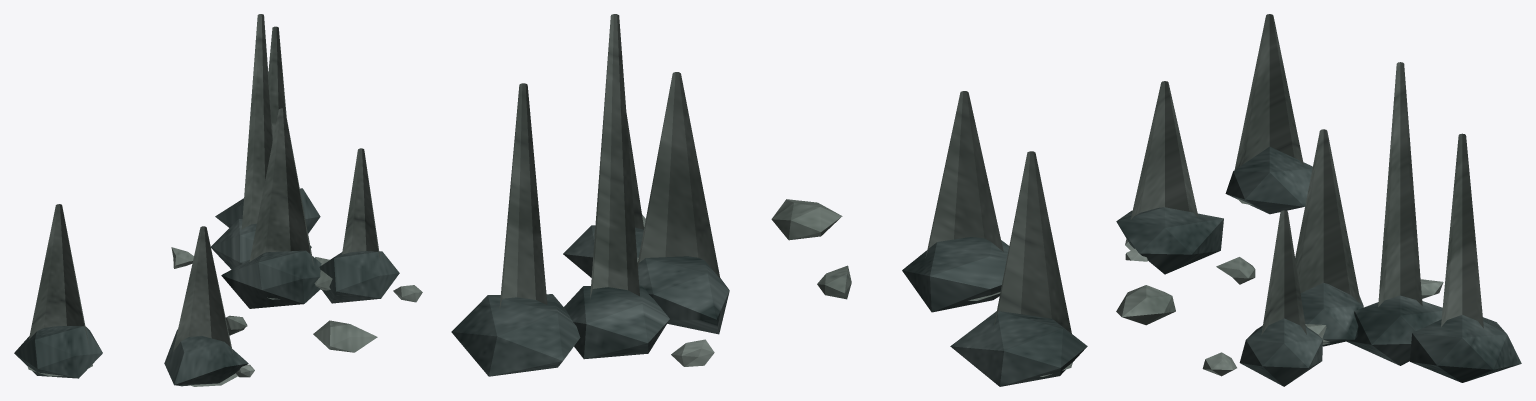
Rendered from 0086_stalagmites_11.glb.
3 renders of one model, left to right at view 1: azimuth 30°, elevation 25°; view 2: azimuth 150°, elevation 25°; view 3: azimuth 270°, elevation 25°, orthographic. The views are drawn at different scales.
Parts seen in each view (by area): view 1: stone, stone_dark; view 2: stone, stone_dark; view 3: stone, stone_dark.
Part boxes in pixels (<box>): stone: <box>27,14,422,386</box>; stone_dark: <box>14,188,399,386</box>; stone: <box>499,14,1072,376</box>; stone_dark: <box>451,225,1087,386</box>; stone: <box>1116,14,1483,376</box>; stone_dark: <box>1116,146,1521,386</box>.
Bounding box in the file's own units: 2.62 × 1.71 × 2.17.
Materials: 2 (2 with a texture image).
